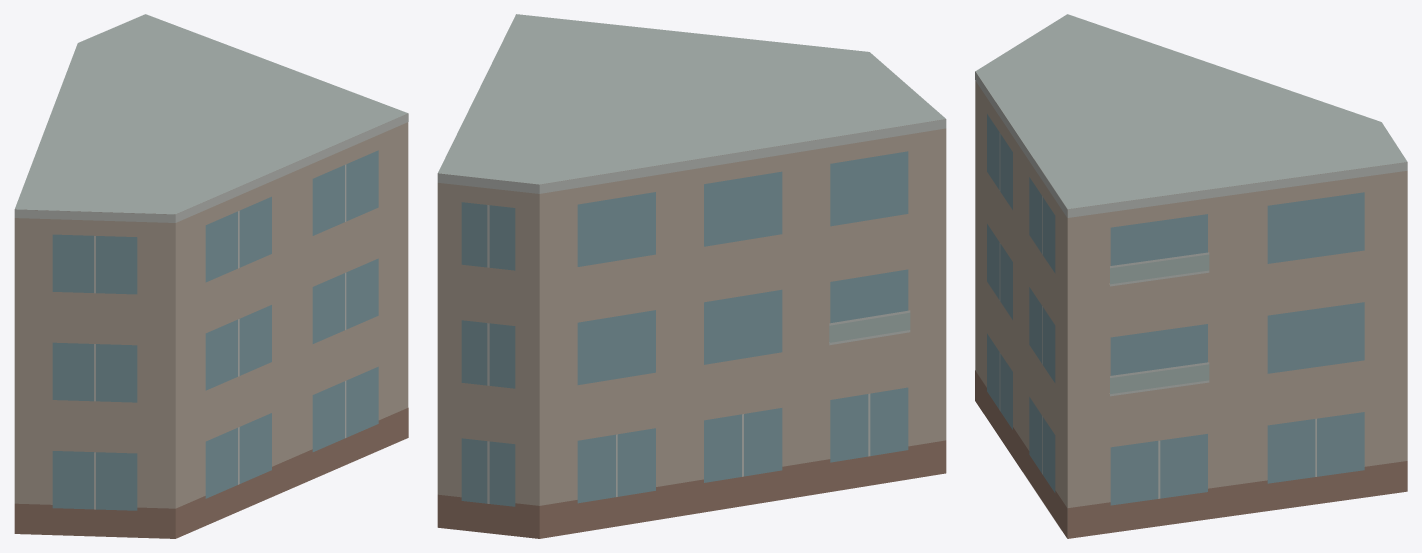
The model's file is survey-upis-32774897.glb.
3 views of the same model, side by side, from view 1: azimuth 30°, elevation 25°; view 2: azimuth 150°, elevation 25°; view 3: azimuth 270°, elevation 25° (orthographic). The views are drawn at different scales.
Visible parts, largest first — view 1: survey-upis-32774897.tmp; view 2: survey-upis-32774897.tmp; view 3: survey-upis-32774897.tmp.
Boxes of the visible parts, x1,y1,x2,y2 form: survey-upis-32774897.tmp: (14, 14, 408, 538); survey-upis-32774897.tmp: (437, 14, 946, 538); survey-upis-32774897.tmp: (975, 14, 1407, 538).
Size of the model in its own units: 11.63 by 9.15 by 10.89.
